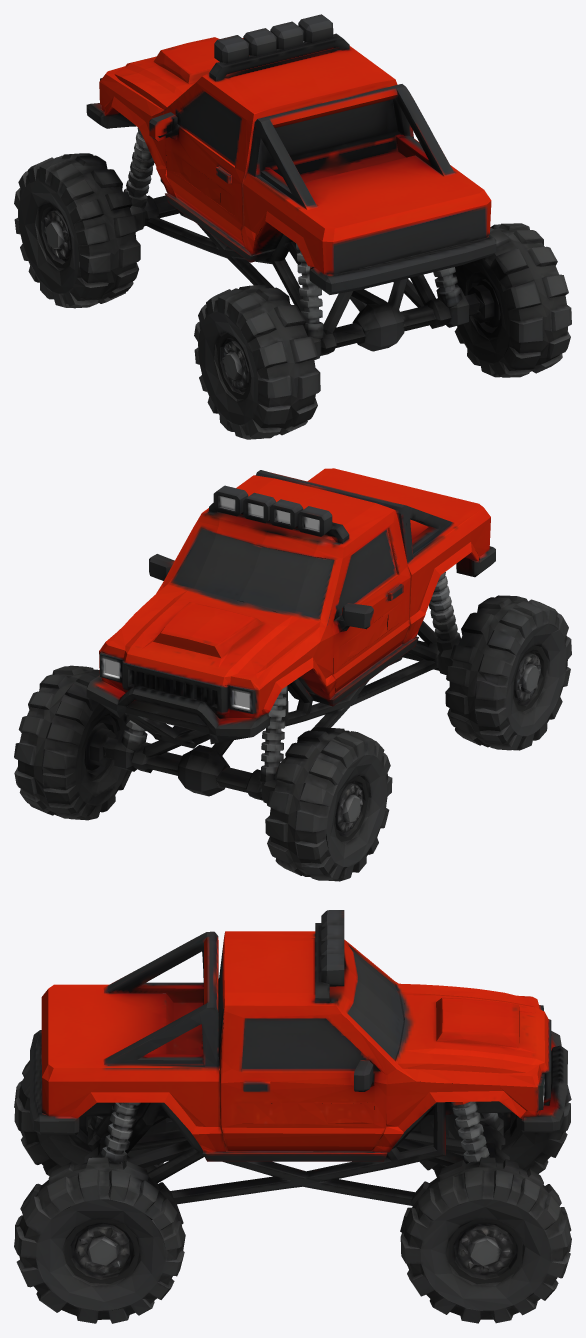
Rendered from RockCrawler.fbx.
3 renders of one model, top to bottom at view 1: azimuth 30°, elevation 25°; view 2: azimuth 150°, elevation 25°; view 3: azimuth 270°, elevation 25°, orthographic. The views are drawn at different scales.
Visible parts, largest first — view 1: Body, WheelFL, WheelRL, WheelRR; view 2: Body, WheelRL, WheelFL, WheelFR; view 3: Body, WheelFR, WheelRR, WheelRL, WheelFL.
Part boxes in pixels (x1=…): Body: x1=86, y1=14, x2=496, y2=359; WheelFL: x1=14, y1=153, x2=140, y2=308; WheelRL: x1=194, y1=284, x2=320, y2=439; WheelRR: x1=453, y1=223, x2=571, y2=377; Body: x1=86, y1=468, x2=495, y2=803; WheelRL: x1=445, y1=595, x2=571, y2=750; WheelFL: x1=265, y1=727, x2=392, y2=881; WheelFR: x1=14, y1=665, x2=131, y2=820; Body: x1=30, y1=910, x2=567, y2=1205; WheelFR: x1=400, y1=1157, x2=571, y2=1323; WheelRR: x1=14, y1=1157, x2=185, y2=1323; WheelRL: x1=14, y1=1060, x2=178, y2=1175; WheelFL: x1=411, y1=1085, x2=571, y2=1177.
Size of the model in its own units: 660 by 594 by 963.
1 material, 1 textured.
